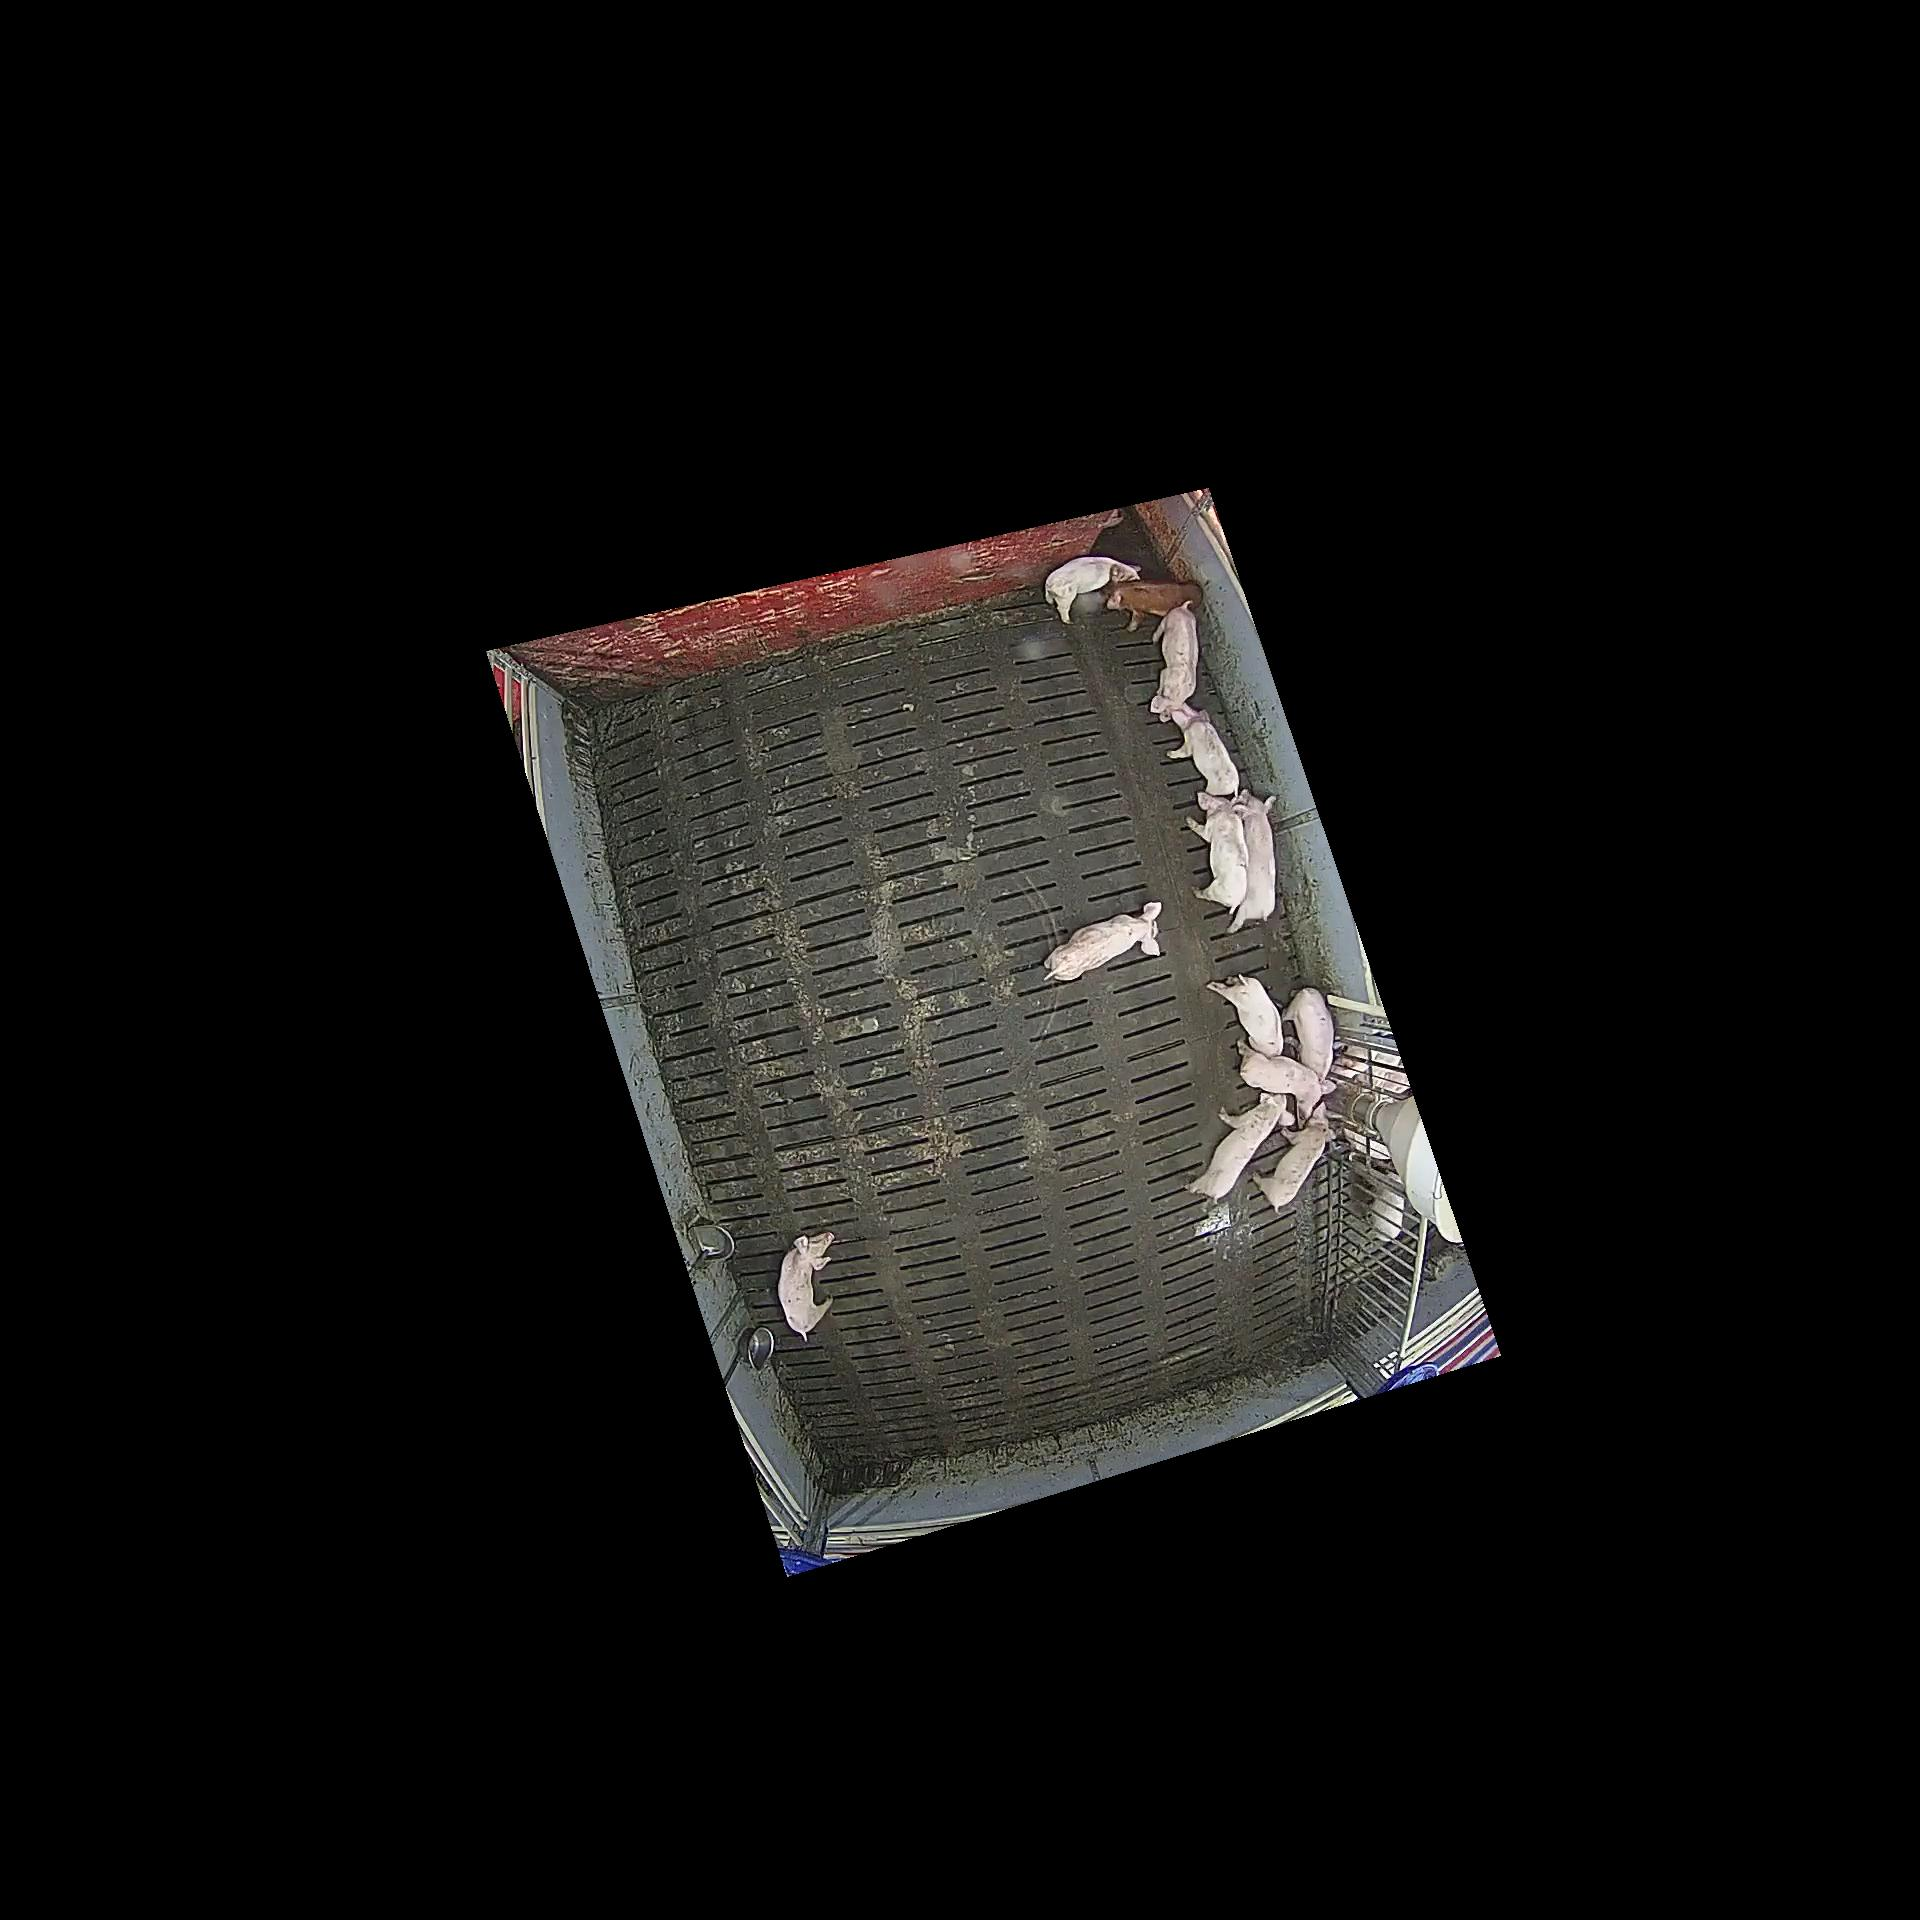pig: (1185, 1092, 1296, 1204), (1044, 900, 1162, 981), (1252, 1104, 1331, 1211), (1185, 793, 1247, 914), (1225, 789, 1276, 935), (1236, 1039, 1338, 1108), (1037, 557, 1141, 622), (1167, 703, 1240, 796), (1206, 971, 1285, 1055), (779, 1231, 833, 1342), (1148, 601, 1196, 724), (1284, 986, 1333, 1078), (1113, 580, 1203, 629)
